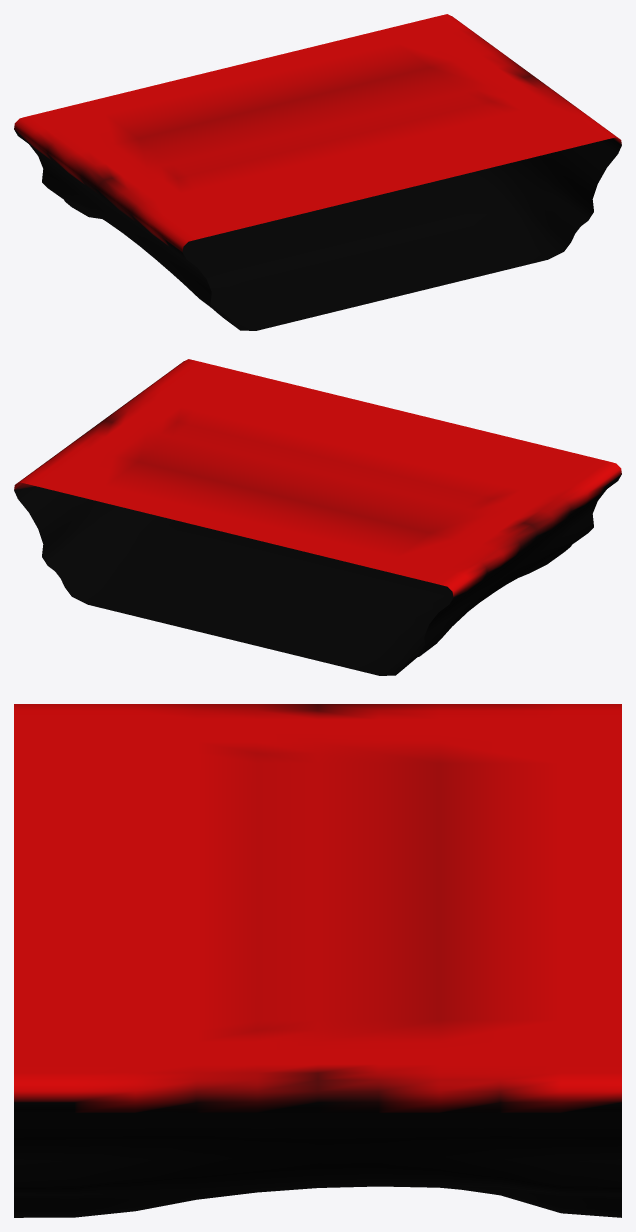
Rendered from CrossingCliff01C 3M Foreground.fbx.
3 renders of one model, top to bottom at view 1: azimuth 30°, elevation 25°; view 2: azimuth 150°, elevation 25°; view 3: azimuth 270°, elevation 25°, orthographic. The views are drawn at different scales.
Visible parts, largest first — view 1: CrossingCliff01C 3M Foreground; view 2: CrossingCliff01C 3M Foreground; view 3: CrossingCliff01C 3M Foreground.
Boxes of the visible parts, x1,y1,x2,y2 form: CrossingCliff01C 3M Foreground: (14,14,621,330); CrossingCliff01C 3M Foreground: (14,359,621,675); CrossingCliff01C 3M Foreground: (14,704,621,1217).
Bounding box in the file's own units: 3.01 × 0.6931 × 2.
